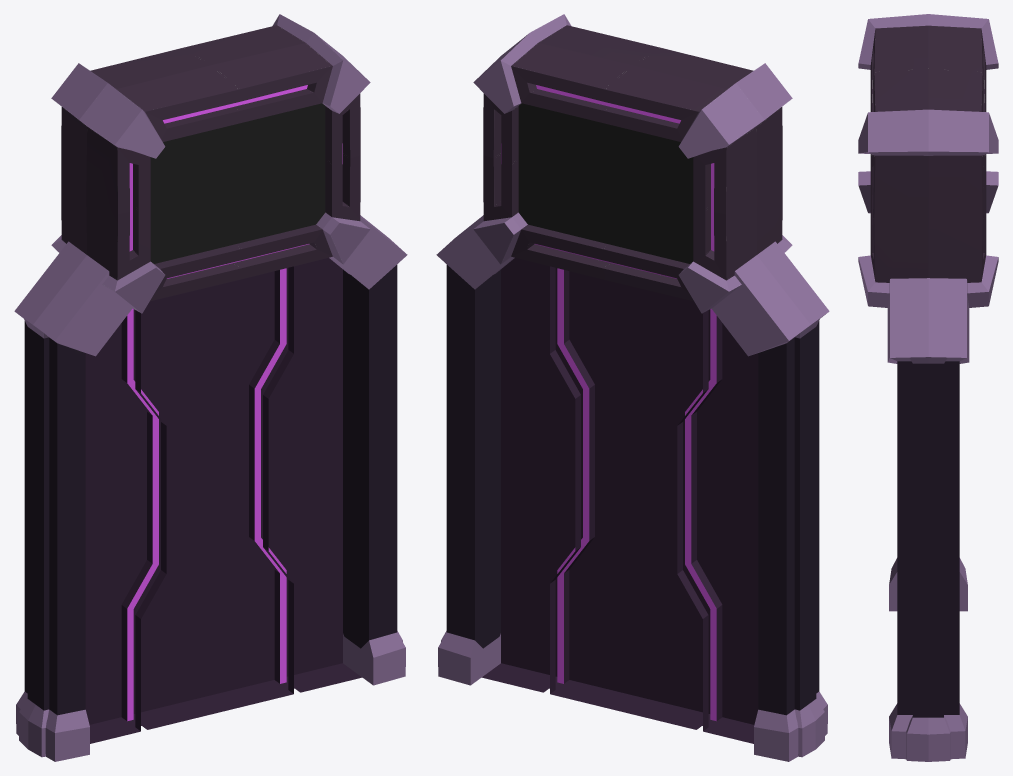
The model's file is door.fbx.
3 renders of one model, left to right at view 1: azimuth 30°, elevation 25°; view 2: azimuth 150°, elevation 25°; view 3: azimuth 270°, elevation 25°, orthographic. The views are drawn at different scales.
Visible parts, largest first — view 1: Door, monitor, Door.Frame; view 2: Door, monitor, Door.Frame; view 3: monitor, Door.Frame.
Boxes of the visible parts, left/top/right/bottom form: Door: left=85, top=257, right=361, bottom=743; monitor: left=51, top=14, right=370, bottom=313; Door.Frame: left=14, top=215, right=407, bottom=761; Door: left=482, top=257, right=758, bottom=743; monitor: left=473, top=14, right=792, bottom=313; Door.Frame: left=436, top=215, right=829, bottom=761; monitor: left=858, top=14, right=998, bottom=307; Door.Frame: left=887, top=278, right=969, bottom=761.
Size of the model in its own units: 323 by 113 by 546.
Materials: 1 (1 with a texture image).
